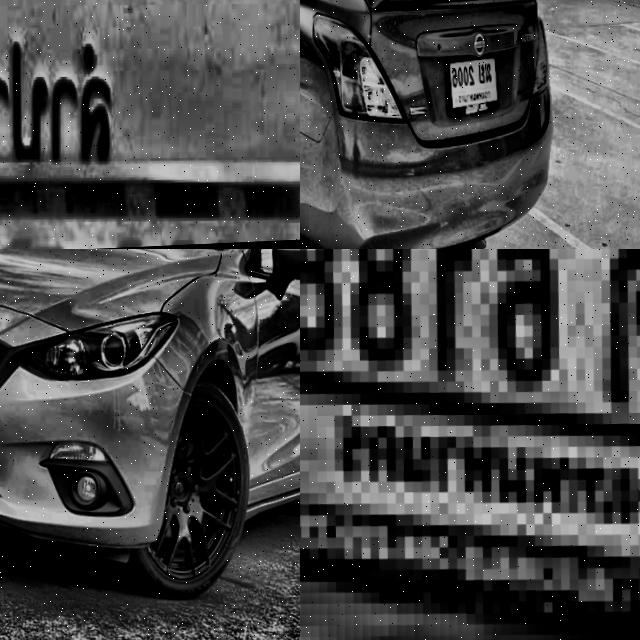license-plate: (300, 249, 640, 640), (0, 0, 300, 249), (430, 49, 508, 134)
